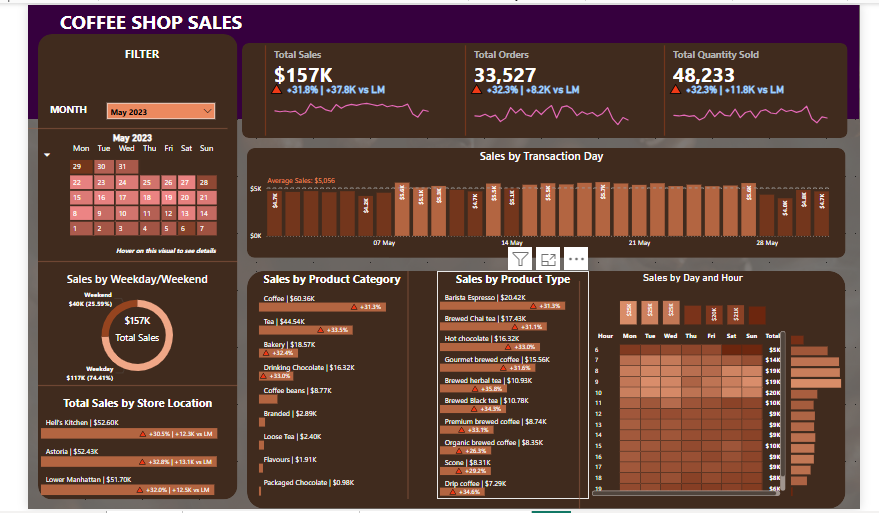

What the dashboard file says about the page in this screenshot:
{"tool":"powerbi","page":{"name":"Page 1","canvas":[1400,850],"ordinal":0},"visuals":[{"type":"shape","box":[-8,0,1408,192],"z":0},{"type":"shape","box":[16,48,336,784],"z":1000},{"type":"shape","box":[360,64,1020,160],"z":2000},{"type":"textbox","box":[48,0,368,64],"z":3000},{"type":"cardVisual","fields":{"Data":["Transactions.Total Sales"]},"box":[384,64,304,160],"z":4000,"group":"g1"},{"type":"cardVisual","fields":{"Data":["Transactions.Total Orders"]},"box":[720,64,304,160],"z":4000,"group":"g2"},{"type":"cardVisual","fields":{"Data":["Transactions.Total Qty Sold"]},"box":[1056,64,304,160],"z":4000,"group":"g3"},{"type":"slicer","fields":{"Values":["Date Table.Month Year"]},"box":[128,160,192,32],"z":4000},{"type":"group","id":"g1","title":"Group 1","box":[384,64,304,160],"z":5000},{"type":"group","id":"g2","title":"Group 1","box":[720,64,304,160],"z":6000},{"type":"lineChart","fields":{"Y":["Transactions.Total Sales"],"Category":["Date Table.Date.Variation.Date Hierarchy.Year","Date Table.Date.Variation.Date Hierarchy.Quarter","Date Table.Date.Variation.Date Hierarchy.Month","Date Table.Date.Variation.Date Hierarchy.Day"]},"box":[400,128,288,80],"z":6000,"group":"g1"},{"type":"lineChart","fields":{"Category":["Date Table.Date.Variation.Date Hierarchy.Year","Date Table.Date.Variation.Date Hierarchy.Quarter","Date Table.Date.Variation.Date Hierarchy.Month","Date Table.Date.Variation.Date Hierarchy.Day"],"Y":["Transactions.Total Orders"]},"box":[736,128,288,80],"z":6000,"group":"g2"},{"type":"lineChart","fields":{"Category":["Date Table.Date.Variation.Date Hierarchy.Year","Date Table.Date.Variation.Date Hierarchy.Quarter","Date Table.Date.Variation.Date Hierarchy.Month","Date Table.Date.Variation.Date Hierarchy.Day"],"Y":["Transactions.Total Qty Sold"]},"box":[1072,128,288,80],"z":6000,"group":"g3"},{"type":"group","id":"g3","title":"Group 1","box":[1056,64,304,160],"z":7000},{"type":"pivotTable","fields":{"Rows":["Date Table.Week Number"],"Columns":["Date Table.Day Name"],"Values":["Min(Date Table.Day Number)"]},"box":[16,224,336,192],"z":8000},{"type":"card","fields":{"Values":["Min(Date Table.Month Year)"]},"box":[96,192,160,64],"z":9000},{"type":"card","fields":{"Values":["Transactions.Foot Note"]},"box":[128,400,208,32],"z":10000},{"type":"shape","box":[16,624,336,32],"z":11000},{"type":"shape","box":[0,192,336,32],"z":12000},{"type":"donutChart","title":"Sales by Weekday/Weekend","fields":{"Category":["Date Table.Weekday/Weekend"],"Y":["Transactions.Total Sales"]},"box":[32,448,304,192],"z":13000},{"type":"cardVisual","fields":{"Data":["Transactions.Total Sales"]},"box":[128,496,112,96],"z":14000},{"type":"shape","box":[16,416,336,32],"z":15000},{"type":"clusteredBarChart","title":"Total Sales by Store Location","fields":{"Y":["Transactions.Placeholder","Transactions.Total Sales"],"Category":["Transactions.store_location"]},"box":[16,656,336,176],"z":16000},{"type":"shape","box":[368,448,1008,400],"z":17000},{"type":"shape","box":[368,240,1008,185],"z":18000},{"type":"columnChart","title":" Sales by Transaction Day","fields":{"Category":["Transactions.transaction_date"],"Y":["Transactions.Total Sales"]},"box":[368,240,992,176],"z":19000},{"type":"clusteredBarChart","title":"Sales by Product Category","fields":{"Y":["Transactions.Placeholder","Transactions.Total Sales"],"Category":["Transactions.product_category"]},"box":[384,448,256,384],"z":20000},{"type":"shape","box":[608,448,64,384],"z":21000},{"type":"clusteredBarChart","title":" Sales by Product Type","fields":{"Y":["Transactions.Placeholder","Transactions.Total Sales"],"Category":["Transactions.product_type"]},"box":[688,448,256,384],"z":22000},{"type":"shape","box":[912,464,32,384],"z":23000},{"type":"pivotTable","fields":{"Rows":["Transactions.Hour"],"Columns":["Date Table.Day Name"],"Values":["Transactions.Total Sales"]},"box":[944,544,336,288],"z":24000},{"type":"barChart","fields":{"Category":["Transactions.Hour"],"Y":["Transactions.Total Sales"]},"box":[1280,544,96,288],"z":25000},{"type":"columnChart","title":"Sales by Day and Hour","fields":{"Category":["Date Table.Day Name"],"Y":["Transactions.Total Sales"]},"box":[992,448,256,96],"z":26000},{"type":"textbox","box":[32,160,80,32],"z":27000},{"type":"textbox","box":[96,64,192,48],"z":28000}]}

Visuals, with their boxes on the page's 1400x850 design canvas (x1, y1, x2, y2). These are canvas units, not pixel positions in the 879x513 screenshot, which may show the page scaled, cropped or inside an application window:
shape: x1=-8, y1=0, x2=1400, y2=192
shape: x1=16, y1=48, x2=352, y2=832
shape: x1=360, y1=64, x2=1380, y2=224
textbox: x1=48, y1=0, x2=416, y2=64
cardVisual - Transactions.Total Sales: x1=384, y1=64, x2=688, y2=224
cardVisual - Transactions.Total Orders: x1=720, y1=64, x2=1024, y2=224
cardVisual - Transactions.Total Qty Sold: x1=1056, y1=64, x2=1360, y2=224
slicer - Date Table.Month Year: x1=128, y1=160, x2=320, y2=192
"Group 1" group: x1=384, y1=64, x2=688, y2=224
"Group 1" group: x1=720, y1=64, x2=1024, y2=224
lineChart - Transactions.Total Sales x Date Table.Date.Variation.Date Hierarchy.Year: x1=400, y1=128, x2=688, y2=208
lineChart - Date Table.Date.Variation.Date Hierarchy.Year x Date Table.Date.Variation.Date Hierarchy.Quarter: x1=736, y1=128, x2=1024, y2=208
lineChart - Date Table.Date.Variation.Date Hierarchy.Year x Date Table.Date.Variation.Date Hierarchy.Quarter: x1=1072, y1=128, x2=1360, y2=208
"Group 1" group: x1=1056, y1=64, x2=1360, y2=224
pivotTable - Date Table.Week Number x Date Table.Day Name: x1=16, y1=224, x2=352, y2=416
card - Min(Date Table.Month Year): x1=96, y1=192, x2=256, y2=256
card - Transactions.Foot Note: x1=128, y1=400, x2=336, y2=432
shape: x1=16, y1=624, x2=352, y2=656
shape: x1=0, y1=192, x2=336, y2=224
"Sales by Weekday/Weekend" donutChart: x1=32, y1=448, x2=336, y2=640
cardVisual - Transactions.Total Sales: x1=128, y1=496, x2=240, y2=592
shape: x1=16, y1=416, x2=352, y2=448
"Total Sales by Store Location" clusteredBarChart: x1=16, y1=656, x2=352, y2=832
shape: x1=368, y1=448, x2=1376, y2=848
shape: x1=368, y1=240, x2=1376, y2=425
" Sales by Transaction Day" columnChart: x1=368, y1=240, x2=1360, y2=416
"Sales by Product Category" clusteredBarChart: x1=384, y1=448, x2=640, y2=832
shape: x1=608, y1=448, x2=672, y2=832
" Sales by Product Type" clusteredBarChart: x1=688, y1=448, x2=944, y2=832
shape: x1=912, y1=464, x2=944, y2=848
pivotTable - Transactions.Hour x Date Table.Day Name: x1=944, y1=544, x2=1280, y2=832
barChart - Transactions.Hour x Transactions.Total Sales: x1=1280, y1=544, x2=1376, y2=832
"Sales by Day and Hour" columnChart: x1=992, y1=448, x2=1248, y2=544
textbox: x1=32, y1=160, x2=112, y2=192
textbox: x1=96, y1=64, x2=288, y2=112
